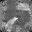people: (7, 17, 18, 30)
